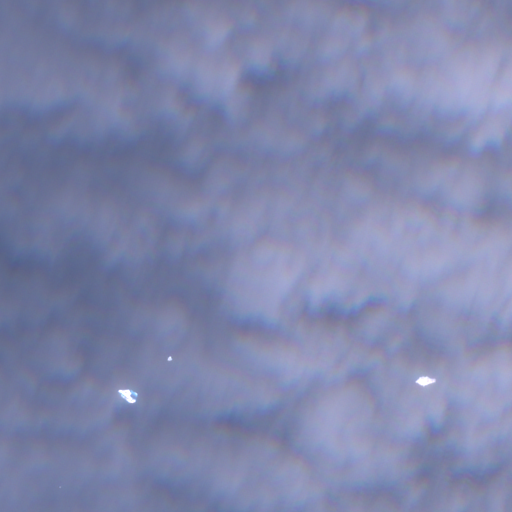Iceberg: (118, 389, 137, 402), (415, 376, 435, 386), (167, 356, 172, 360)
